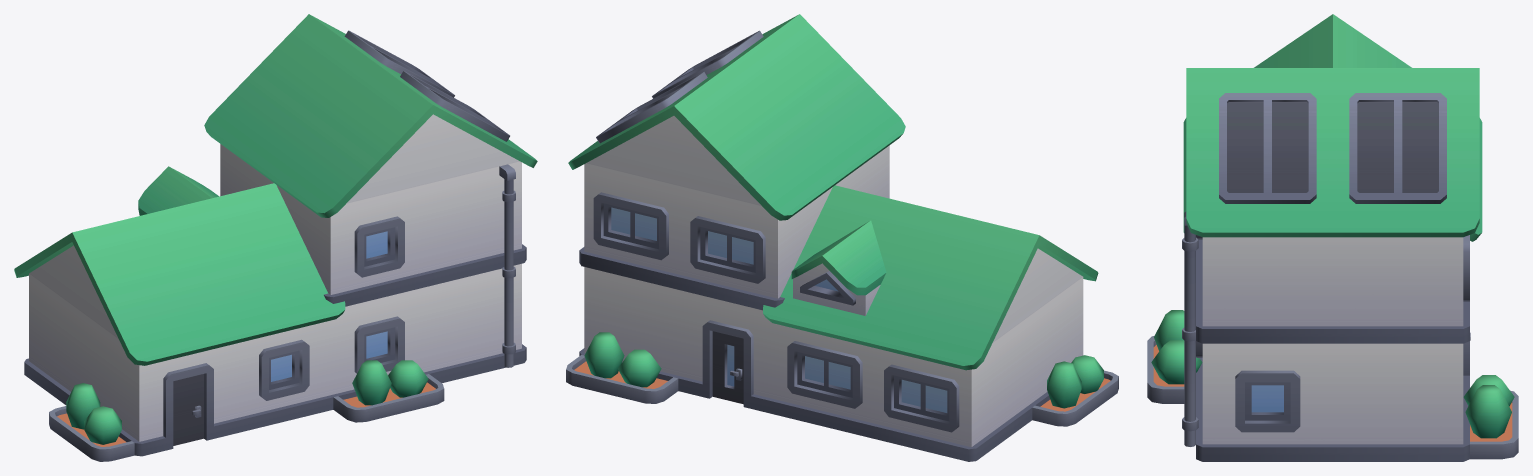
The model's file is house-b.glb.
3 renders of one model, left to right at view 1: azimuth 30°, elevation 25°; view 2: azimuth 150°, elevation 25°; view 3: azimuth 270°, elevation 25°, orthographic. The views are drawn at different scales.
Parts seen in each view (by area): view 1: building-type-b; view 2: building-type-b; view 3: building-type-b.
Part boxes in pixels (<box>): building-type-b: <box>14,14,537,461</box>; building-type-b: <box>566,14,1118,461</box>; building-type-b: <box>1147,14,1518,461</box>.
Size of the model in its own units: 1.83 by 1.14 by 1.14.
1 material, 1 textured.
